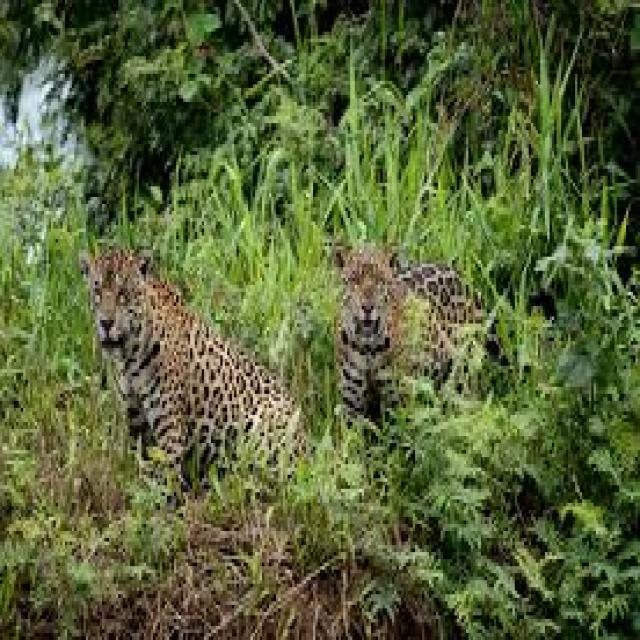Jaguar: (79, 242, 313, 502), (324, 239, 512, 429)
